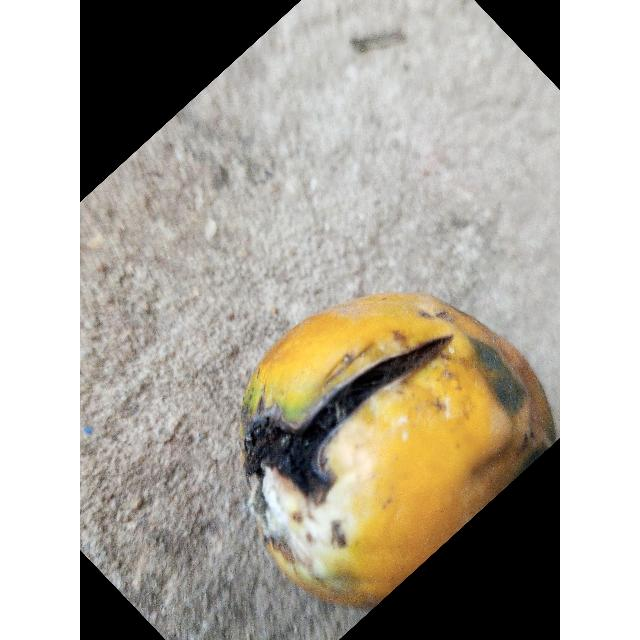damaged: (242, 292, 560, 612)
